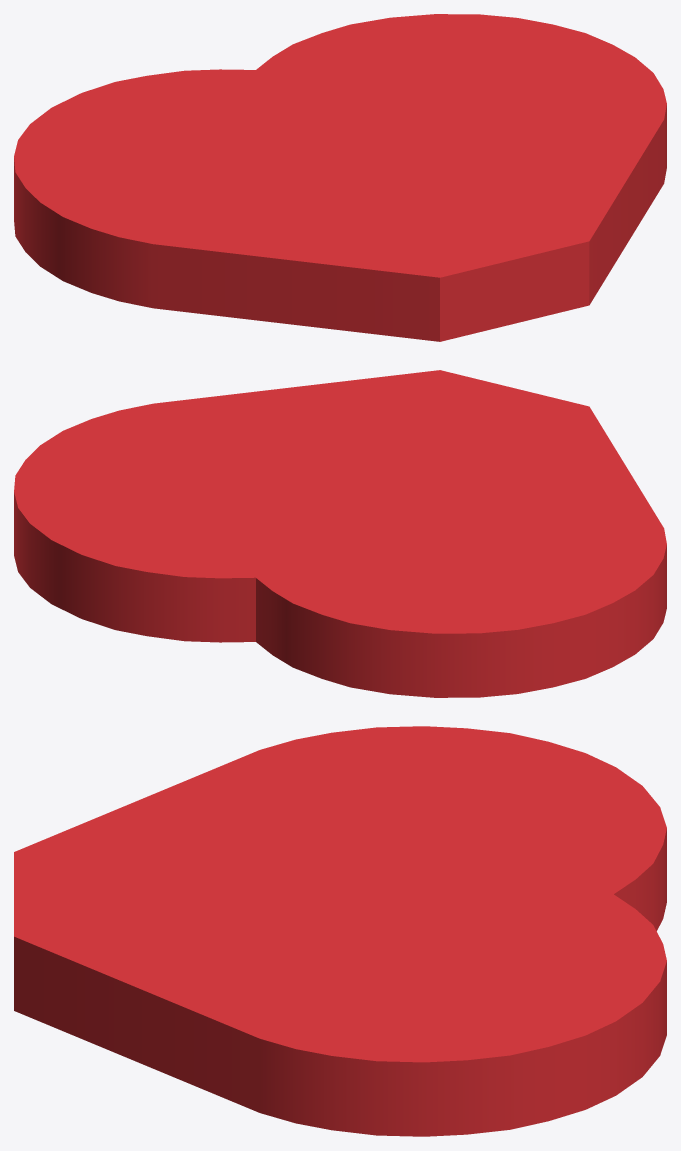
Rendered from Heart.fbx.
3 views of the same model, one above another, from view 1: azimuth 30°, elevation 25°; view 2: azimuth 150°, elevation 25°; view 3: azimuth 270°, elevation 25° (orthographic). The views are drawn at different scales.
Visible parts, largest first — view 1: Heart; view 2: Heart; view 3: Heart.
Part boxes in pixels (x1,y1,x2,y2): Heart: (14, 14, 666, 341); Heart: (14, 370, 666, 697); Heart: (14, 726, 666, 1136).
Size of the model in its own units: 31.87 by 3.29 by 26.16.
